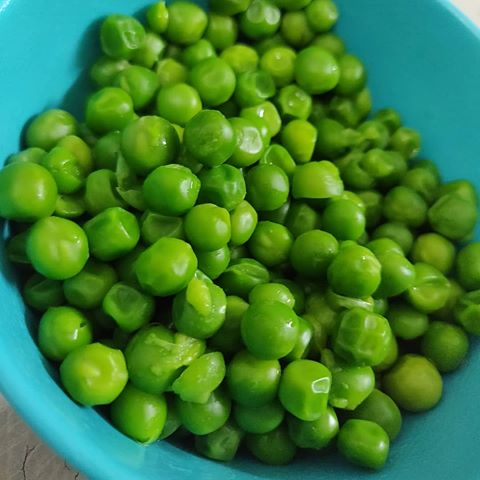boiled peas: (16, 3, 480, 466)
